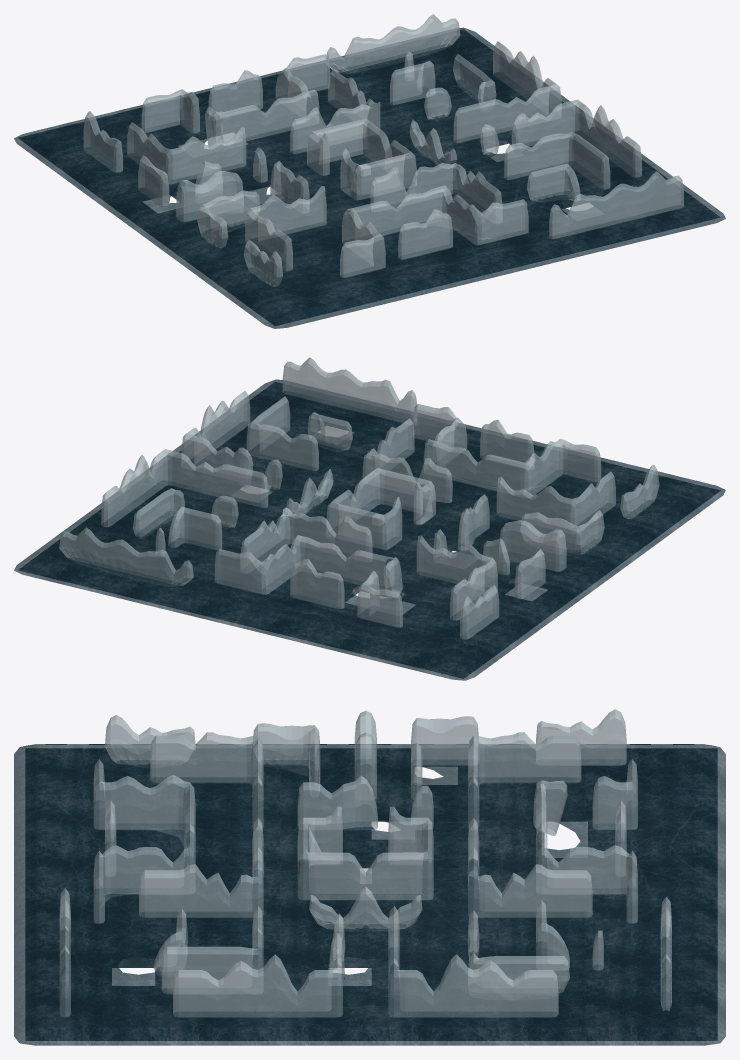
File: Ice_labyrinth1.1.8blend.fbx
3 renders of one model, top to bottom at view 1: azimuth 30°, elevation 25°; view 2: azimuth 150°, elevation 25°; view 3: azimuth 270°, elevation 25°, orthographic. The views are drawn at different scales.
Visible parts, largest first — view 1: Floor, Walls, Floor_001; view 2: Floor, Walls, Floor_001; view 3: Floor, Floor_001, Walls.
Boxes of the visible parts, <box> form: Floor: <box>14,27,725,328</box>; Walls: <box>83,14,683,286</box>; Floor_001: <box>18,29,719,325</box>; Floor: <box>14,379,725,680</box>; Walls: <box>59,357,659,639</box>; Floor_001: <box>19,382,720,678</box>; Floor: <box>14,744,725,1045</box>; Floor_001: <box>25,748,717,1040</box>; Walls: <box>59,709,671,1017</box>.
Bounding box in the file's own units: 117 × 12.79 × 117.
